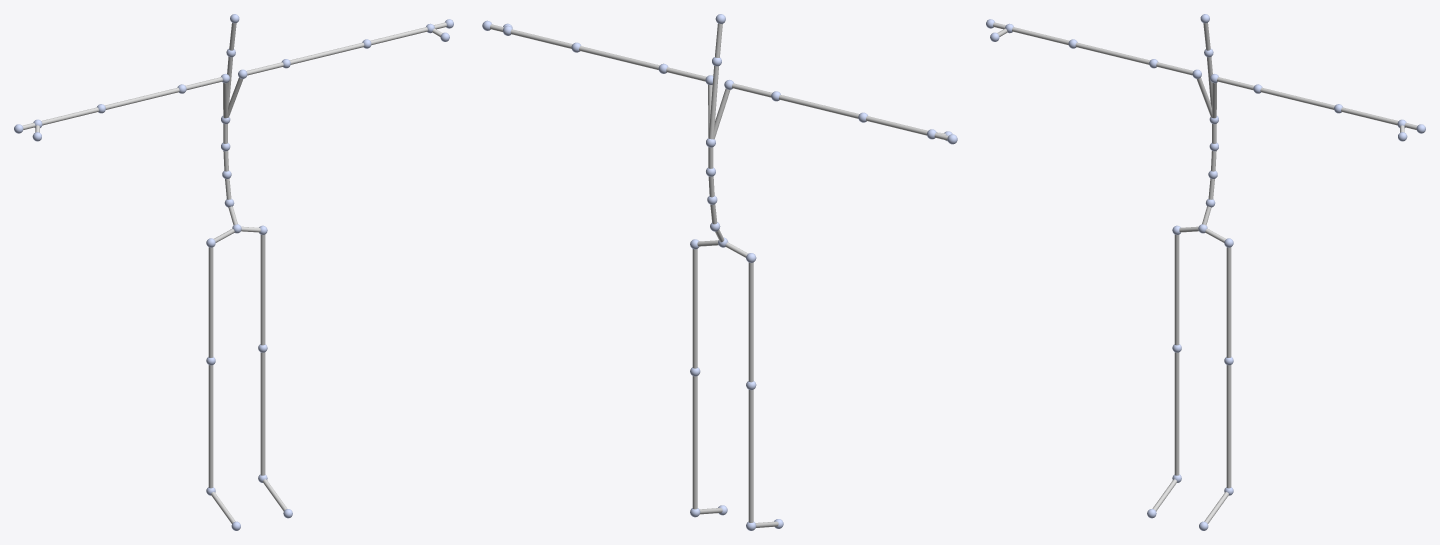
Rendered from SOMA_cskel27.fbx.
3 views of the same model, side by side, from view 1: azimuth 30°, elevation 25°; view 2: azimuth 150°, elevation 25°; view 3: azimuth 330°, elevation 25° (orthographic). The views are drawn at different scales.
Visible parts, largest first — view 1: BoneSegment 8, BoneSegment 7, BoneSegment 4, BoneSegment 5; view 2: BoneSegment 8, BoneSegment 7, BoneSegment 4, BoneSegment 5; view 3: BoneSegment 7, BoneSegment 8, BoneSegment 4, BoneSegment 5.
Part boxes in pixels (x1=…): BoneSegment 8: x1=260, y1=352, x2=265, y2=475; BoneSegment 7: x1=208, y1=365, x2=213, y2=488; BoneSegment 4: x1=208, y1=247, x2=213, y2=357; BoneSegment 5: x1=260, y1=234, x2=265, y2=345; BoneSegment 8: x1=692, y1=376, x2=697, y2=509; BoneSegment 7: x1=748, y1=389, x2=753, y2=522; BoneSegment 4: x1=748, y1=262, x2=753, y2=382; BoneSegment 5: x1=692, y1=249, x2=697, y2=368; BoneSegment 7: x1=1174, y1=352, x2=1179, y2=475; BoneSegment 8: x1=1226, y1=365, x2=1231, y2=488; BoneSegment 4: x1=1174, y1=234, x2=1179, y2=345; BoneSegment 5: x1=1226, y1=247, x2=1231, y2=357.
Size of the model in its own units: 161 by 171 by 26.27.
